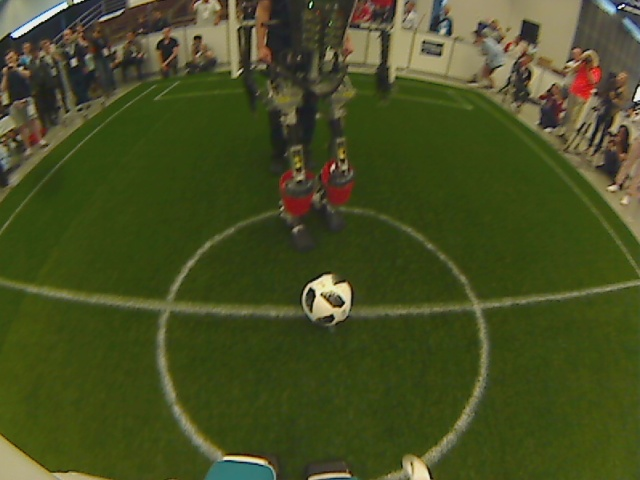ball: (297, 270, 356, 329)
